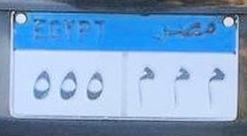5: (84, 69, 107, 105), (57, 68, 80, 104), (31, 67, 53, 104)
meem: (201, 59, 227, 113), (132, 63, 158, 112), (168, 63, 194, 111)
